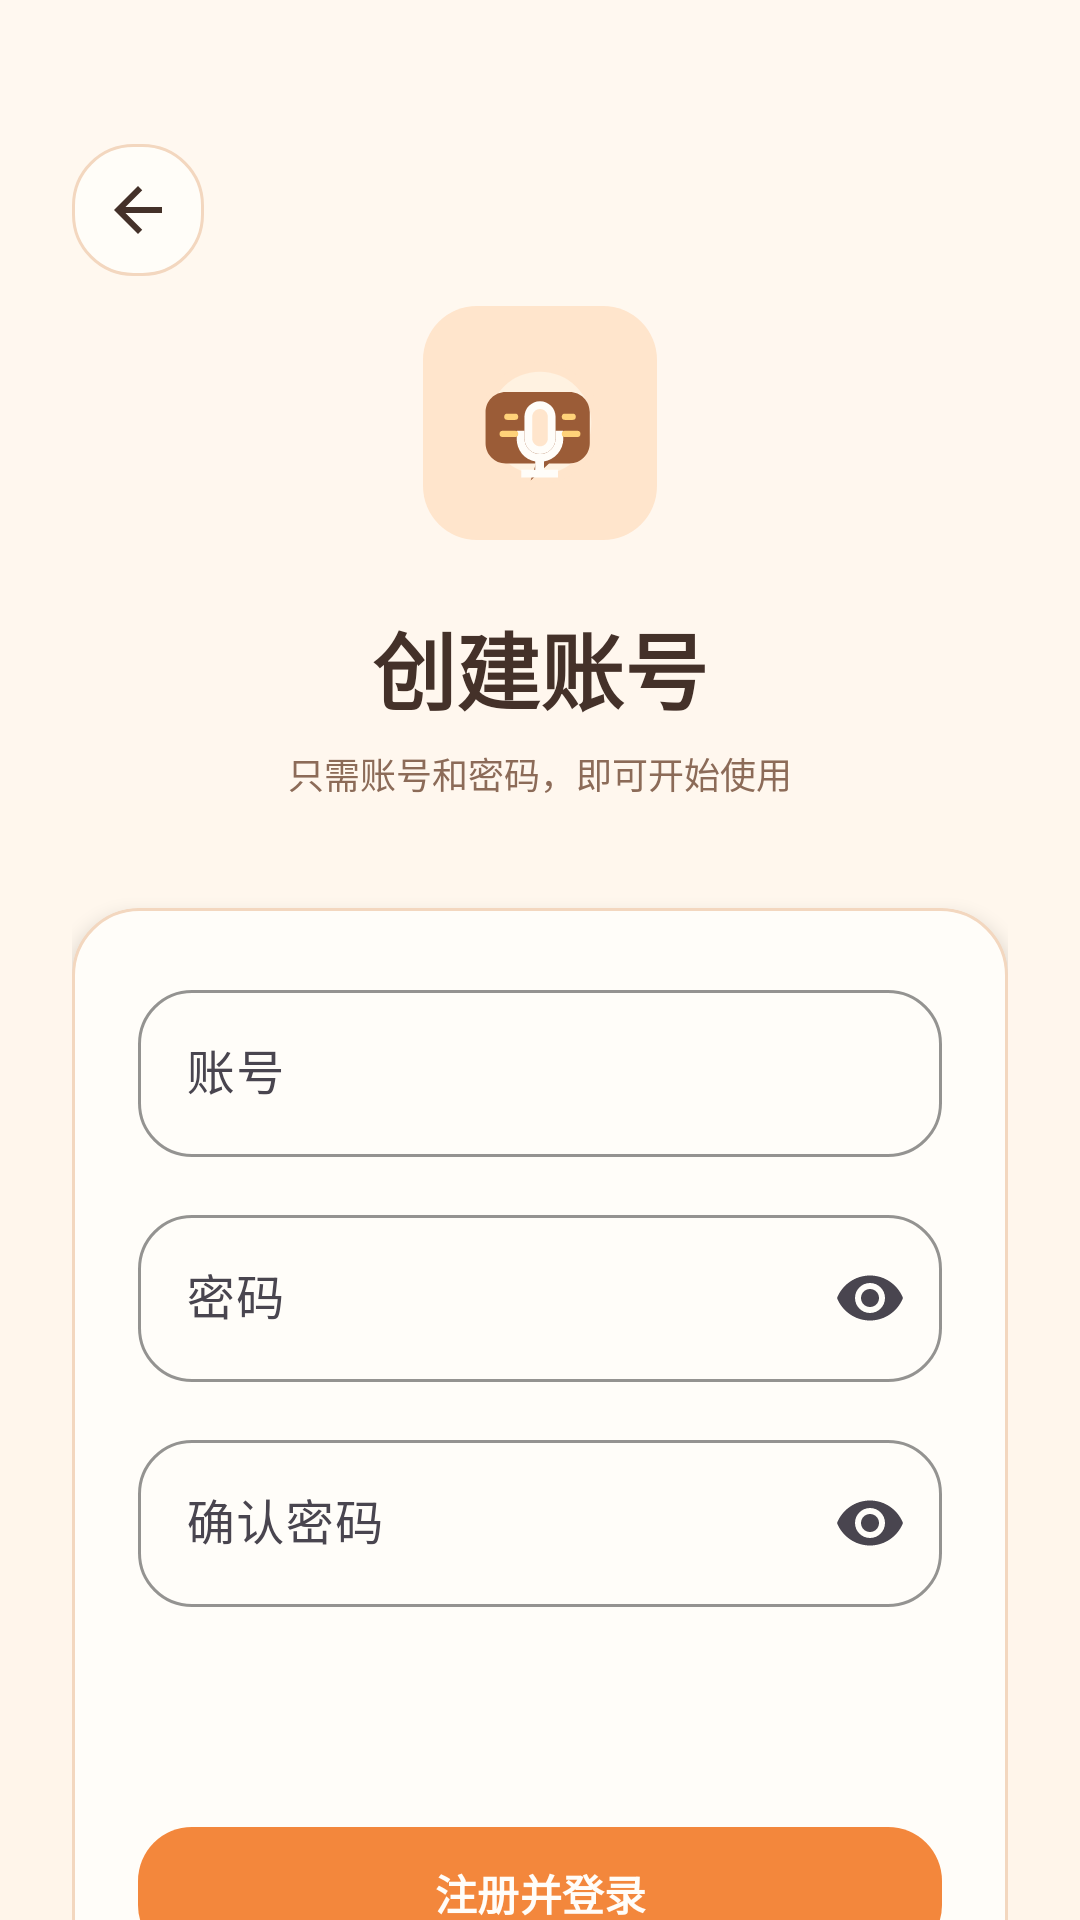

Locate icon controls on the screen. Image size 1080 x 1920, boxes as (x1, y1, x2, y2).
返回: (72, 144, 204, 276)
